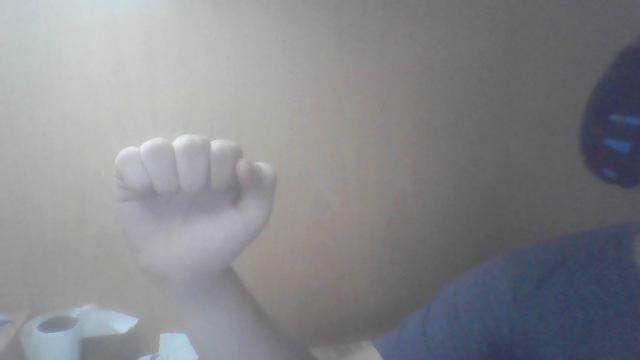forward: (112, 132, 278, 284)
